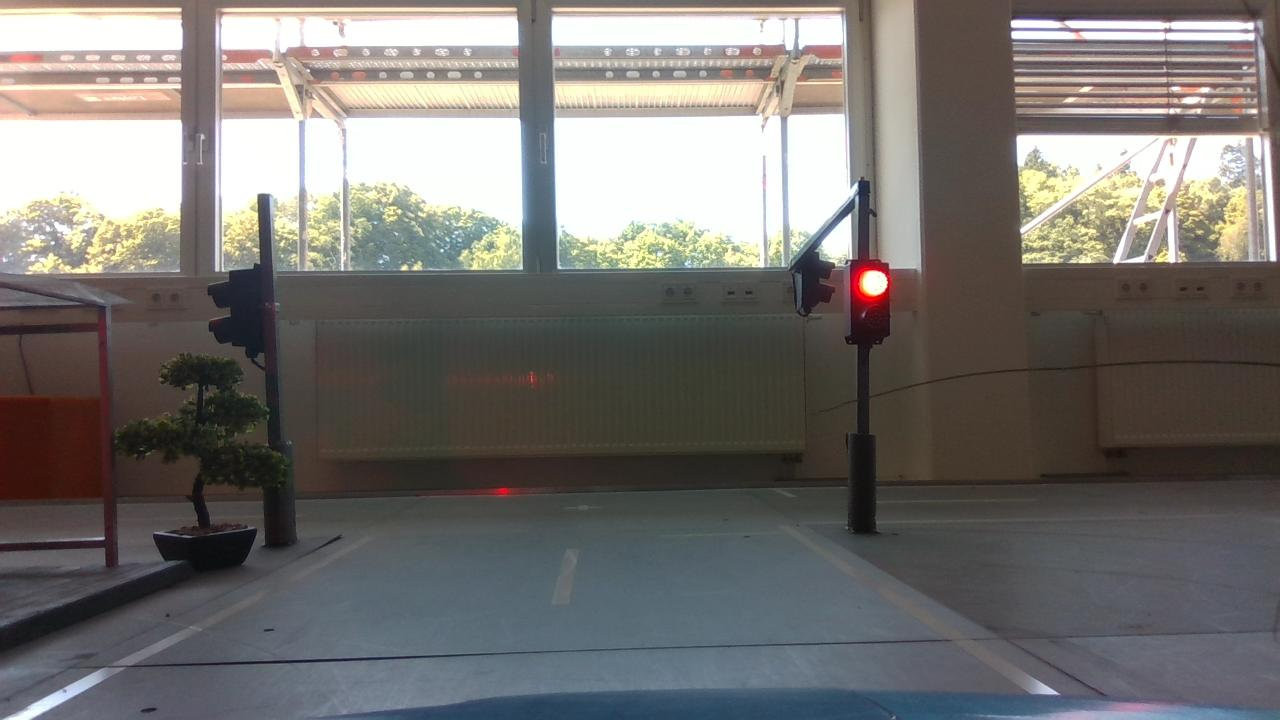traffic_light_red: (828, 252, 913, 358)
